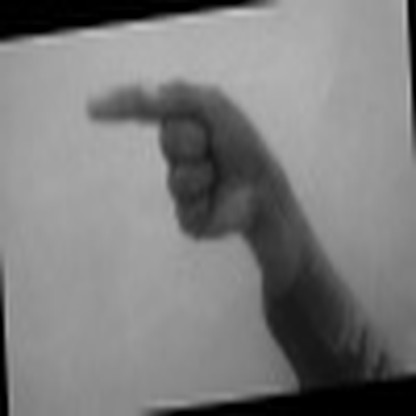g: (66, 64, 289, 243)
